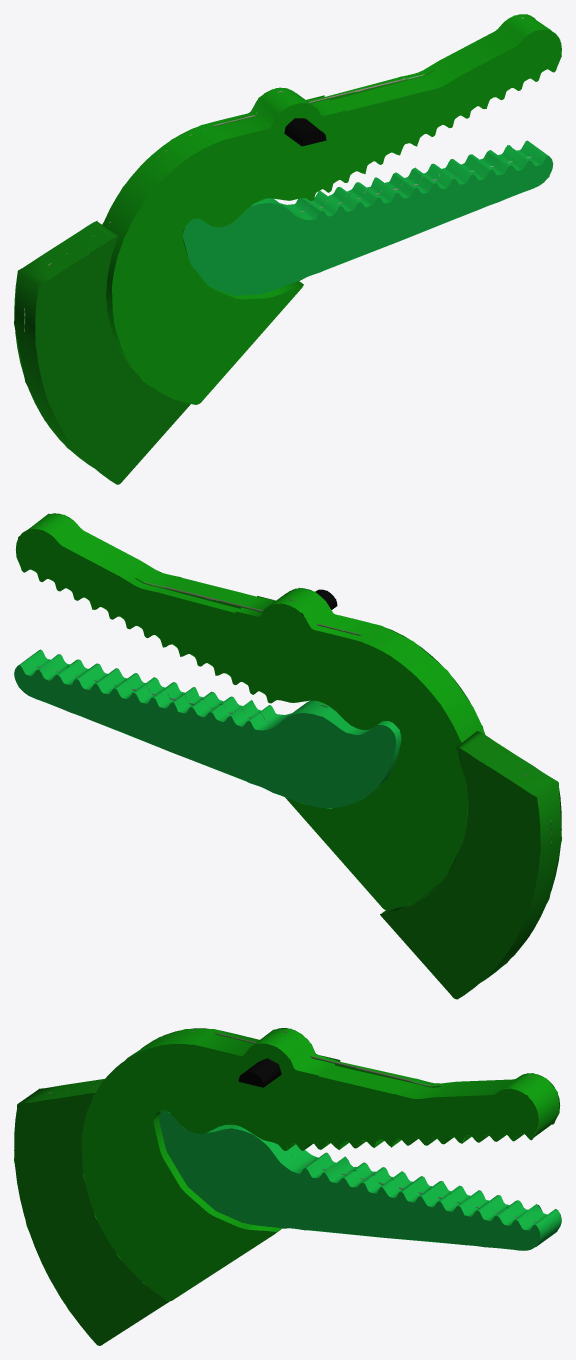
The model's file is croc.glb.
3 views of the same model, one above another, from view 1: azimuth 30°, elevation 25°; view 2: azimuth 150°, elevation 25°; view 3: azimuth 330°, elevation 25° (orthographic).
Visible parts, largest first — view 1: crocodile; view 2: crocodile; view 3: crocodile.
Part boxes in pixels (x1,y1,x2,y2): crocodile: (14, 14, 561, 484); crocodile: (14, 513, 561, 999); crocodile: (14, 1028, 561, 1345).
Bounding box in the file's own units: 4.26 × 2.79 × 0.6188.
